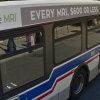Bus: (3, 2, 98, 100)
